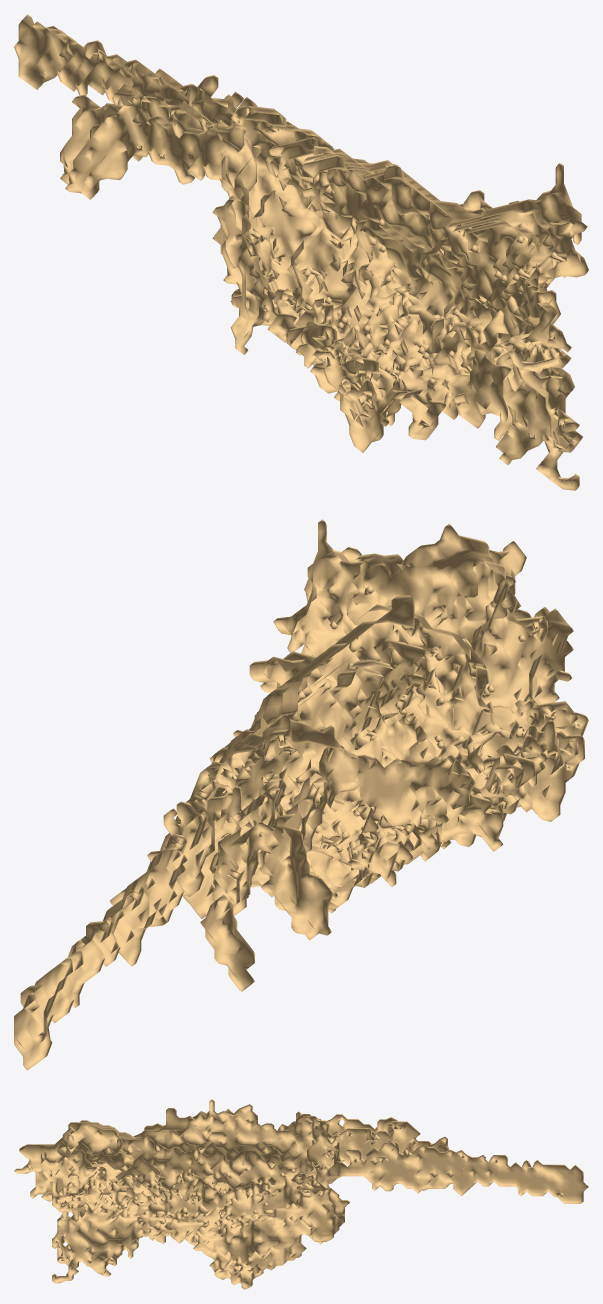
Rendered from osteocyte_166.glb.
The picture shows the model from 3 angles, top to bottom: view 1: azimuth 30°, elevation 25°; view 2: azimuth 150°, elevation 25°; view 3: azimuth 270°, elevation 25°; orthographic projection. The views are drawn at different scales.
Visible parts, largest first — view 1: osteocyte_166; view 2: osteocyte_166; view 3: osteocyte_166.
Part boxes in pixels (x1=…): osteocyte_166: x1=14, y1=14, x2=588, y2=490; osteocyte_166: x1=14, y1=519, x2=588, y2=1070; osteocyte_166: x1=14, y1=1099, x2=588, y2=1289.
Size of the model in its own units: 15.41 by 15.41 by 51.04.
